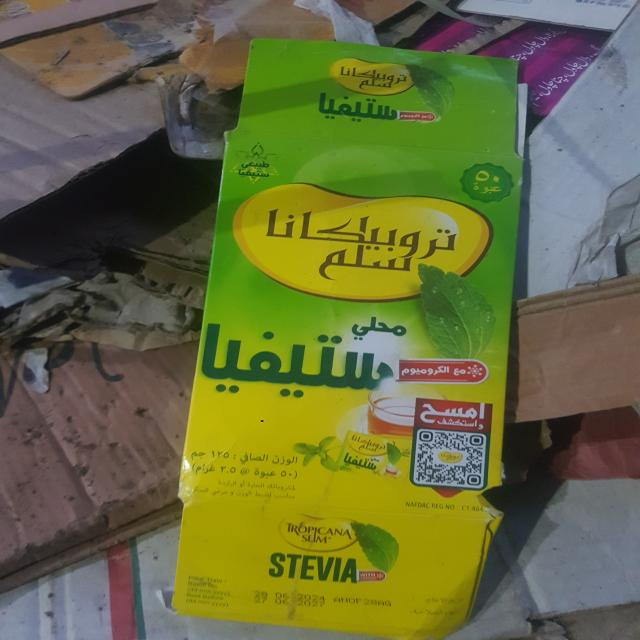electronic: (171, 41, 527, 638)
